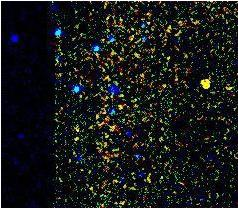star: (188, 66, 218, 96)
